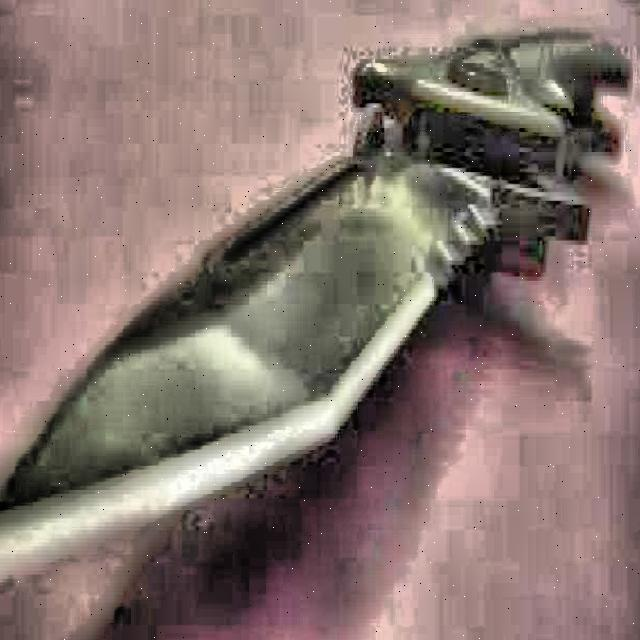knife: (0, 11, 637, 584)
